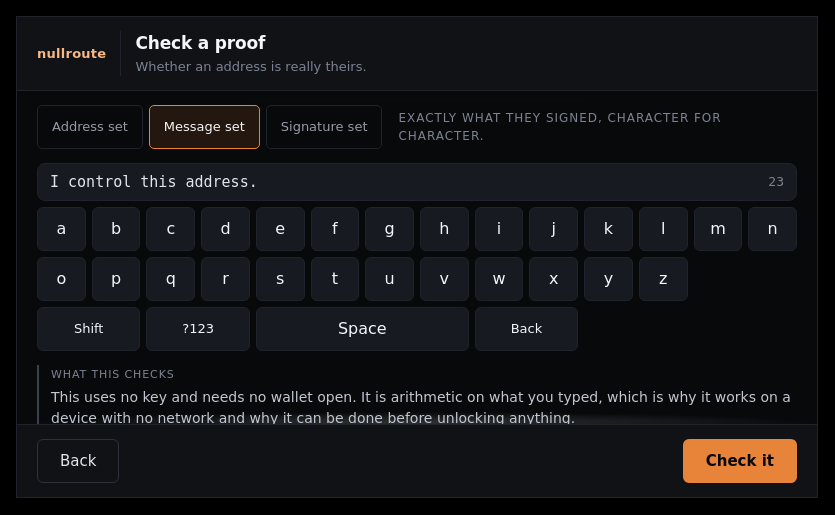
Test: VerifyMessageScreen › says-what-a-pass-does-not-prove
Click the button with test id "verify-run" at (740, 461), box [683, 439, 797, 483]
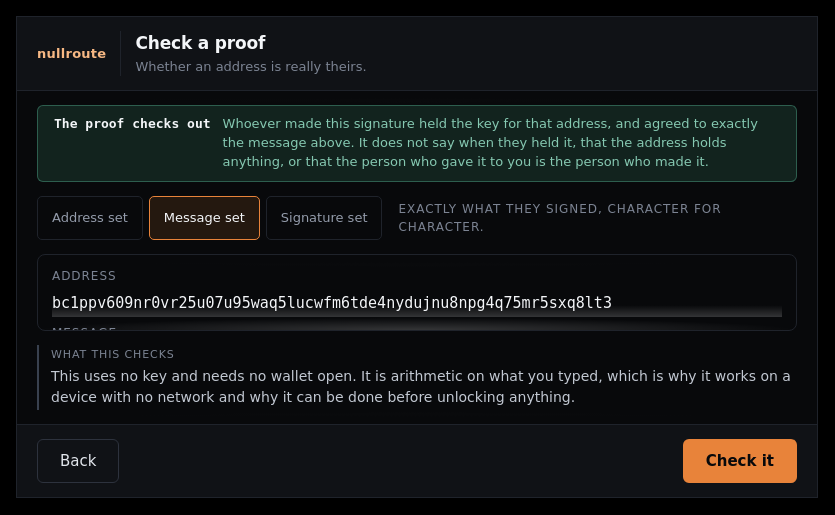
Check: the element with test id "verify-result" is shown, box [37, 105, 797, 182]
Check: the element with test id "verify-result" shows "The proof checks out", box [54, 116, 210, 131]
Check: the element with test id "verify-result" shows "does not say when", box [222, 116, 758, 169]
